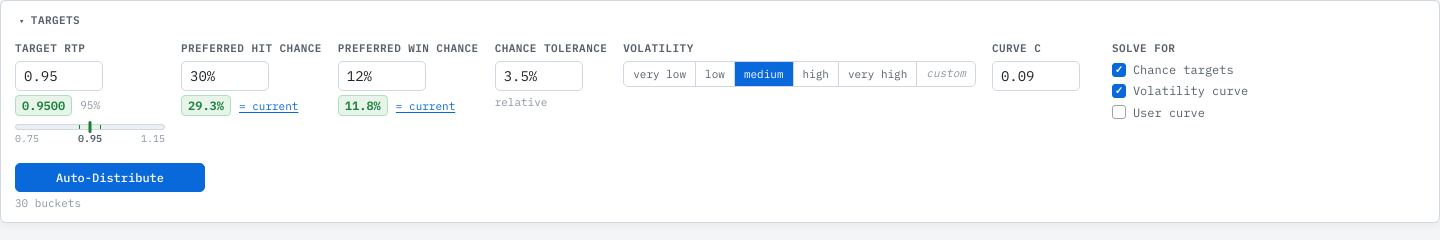
Scenario: TargetsPanel chance fields › edits as a plain percent number, without the % sign
Focus the field named "Preferred Hit Chance" at (225, 76), box [181,61,269,91]
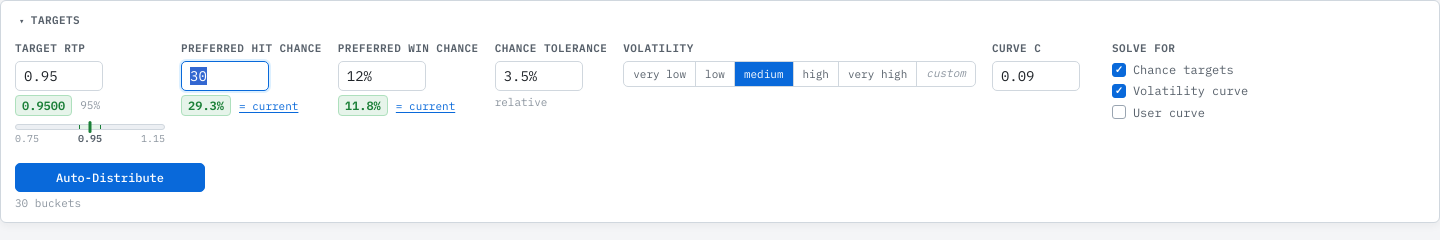
expect the field named "Preferred Hit Chance" holds "30": met, box [181,61,269,91]
